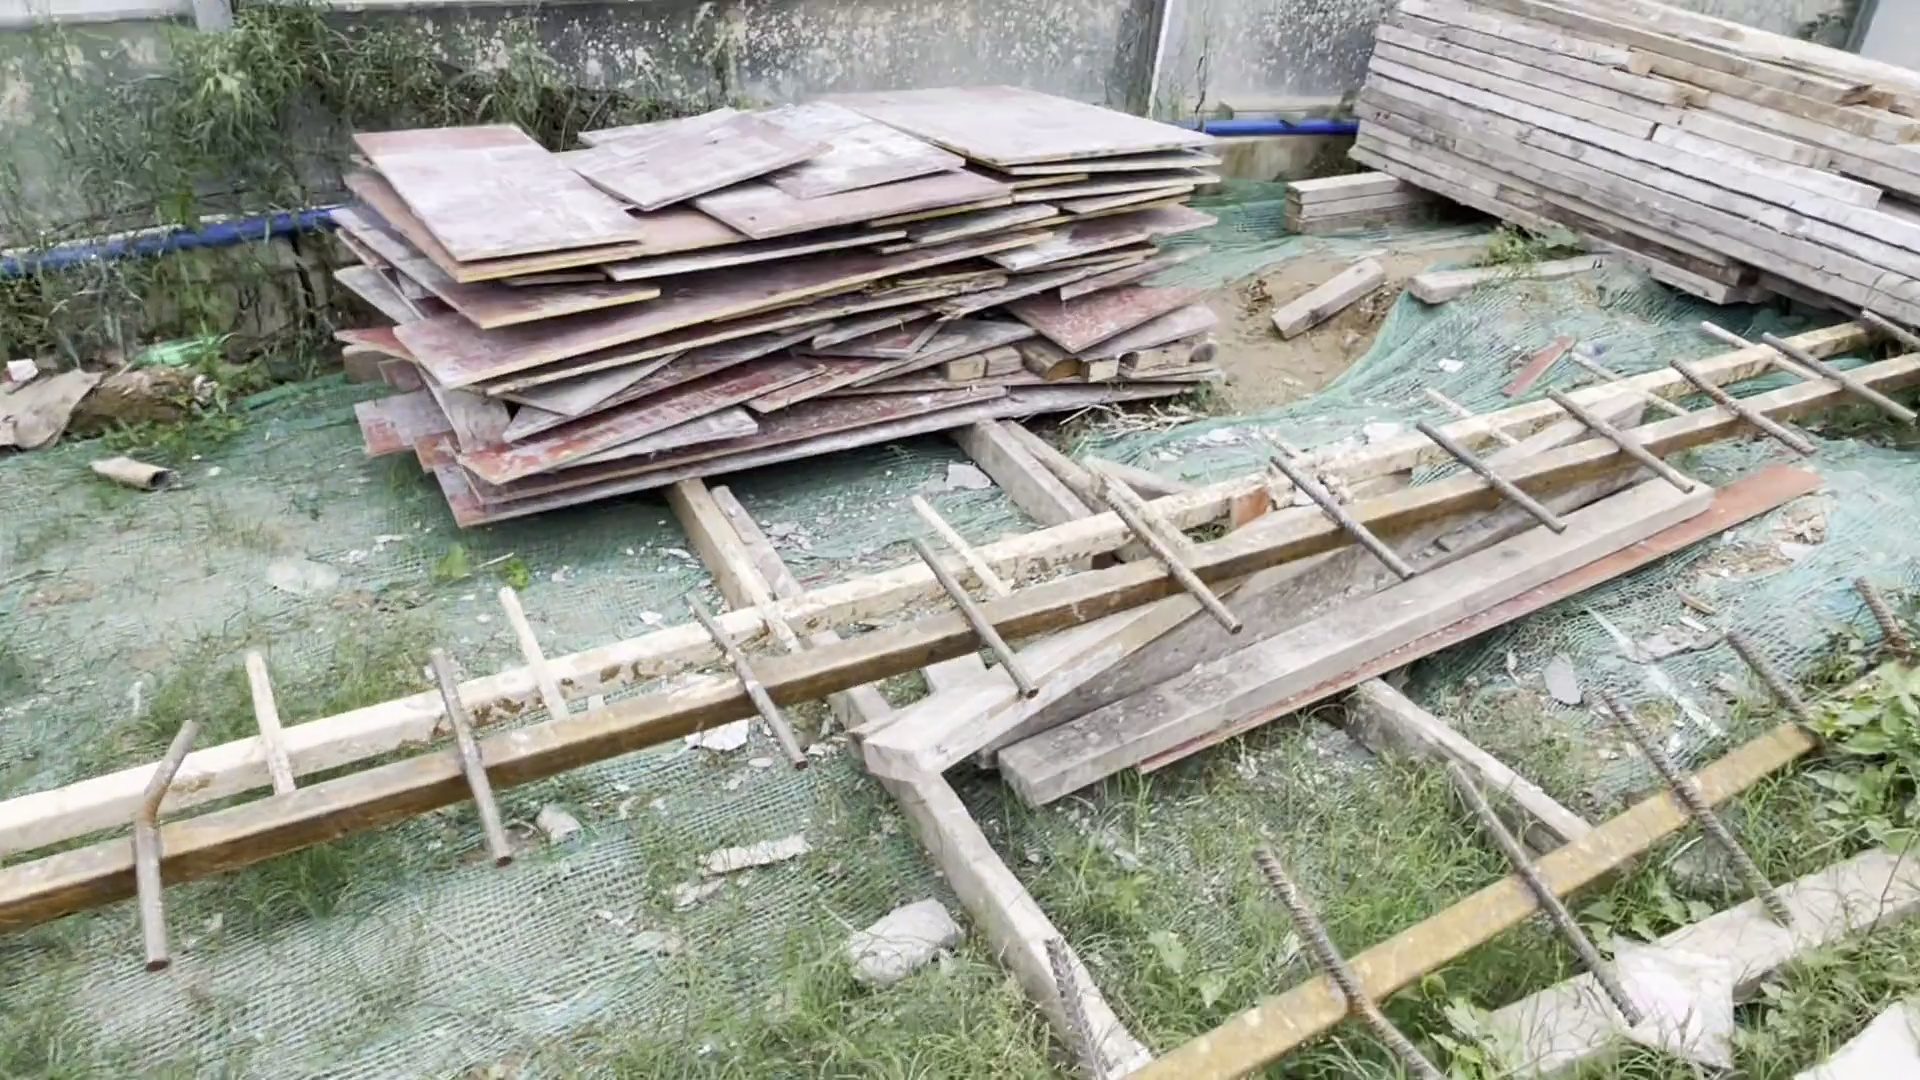board: (319, 69, 1280, 495)
wood: (1335, 1, 1913, 353)
